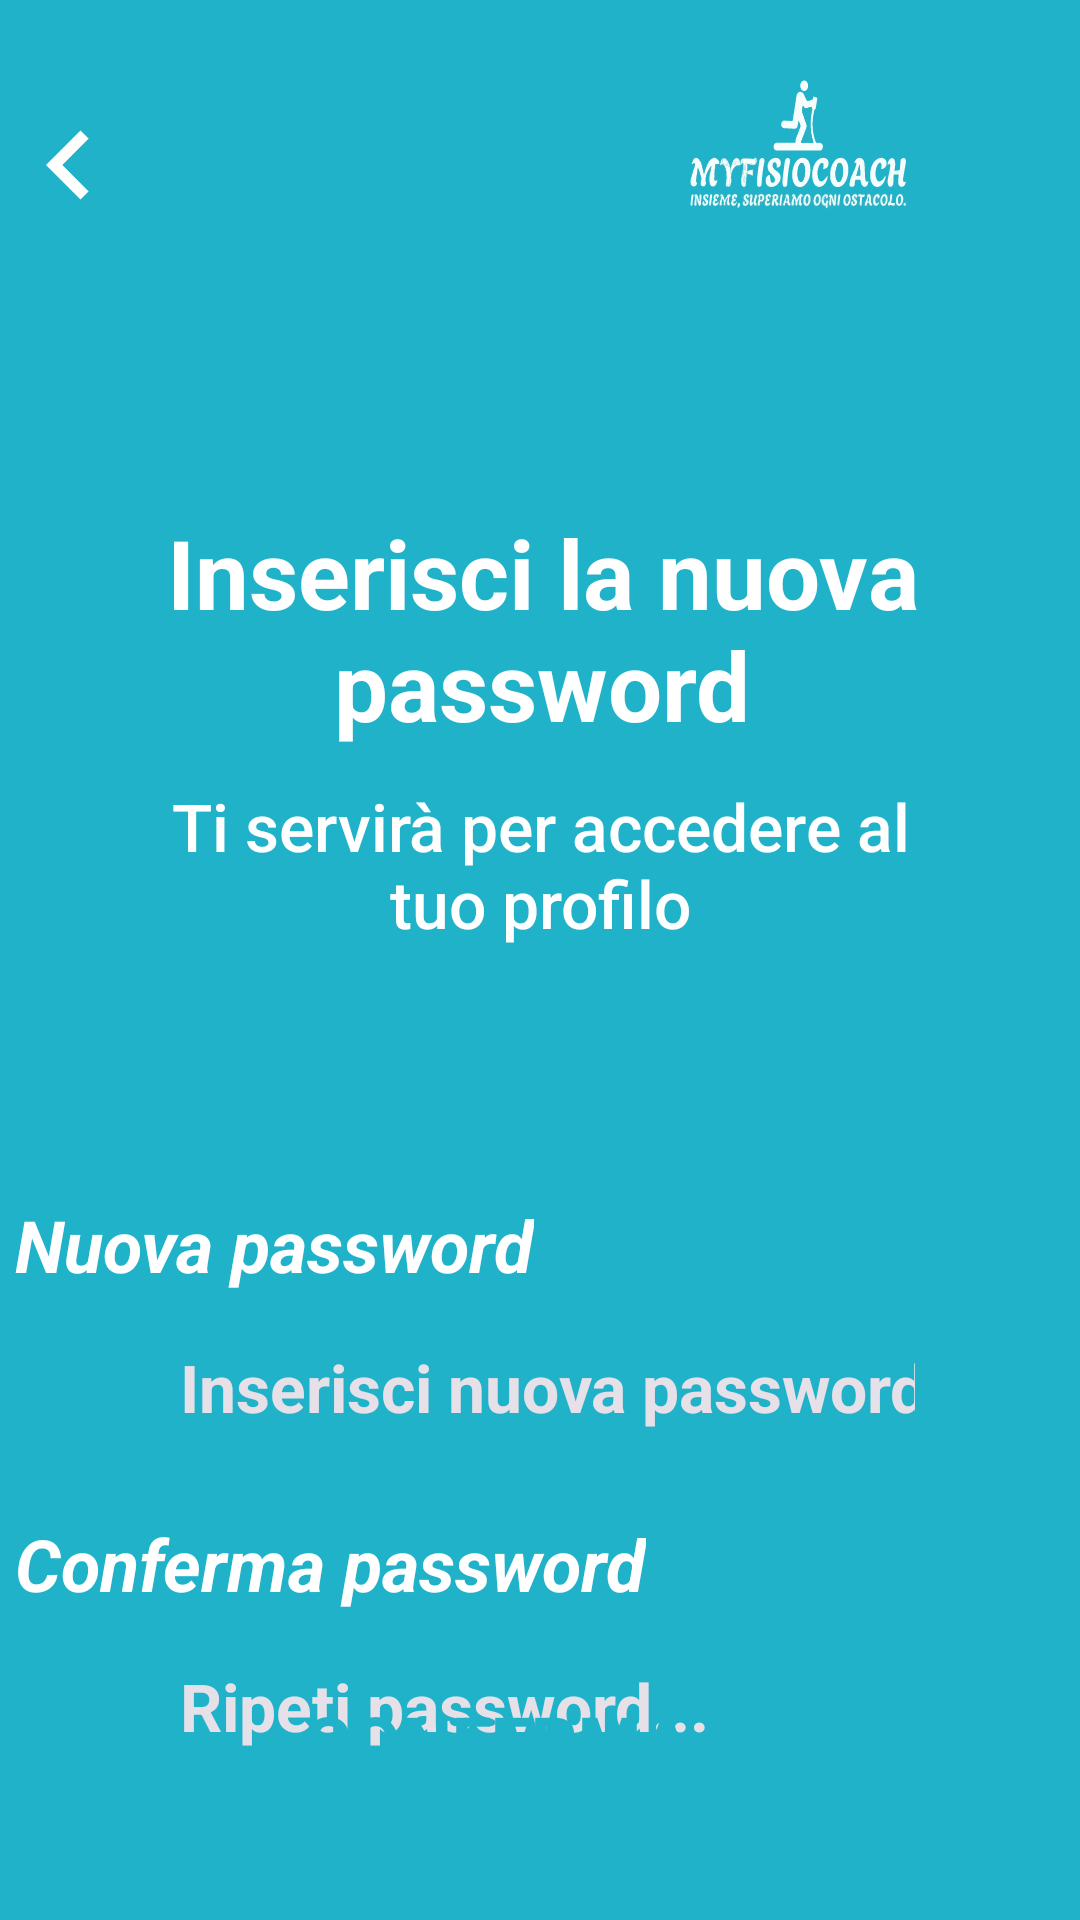

Icons on this 1080w x 1920h Android screen, each with its box as (left=x1, top=y1, right=x2, bottom=y2):
chevron left: (left=46, top=130, right=89, bottom=200)
